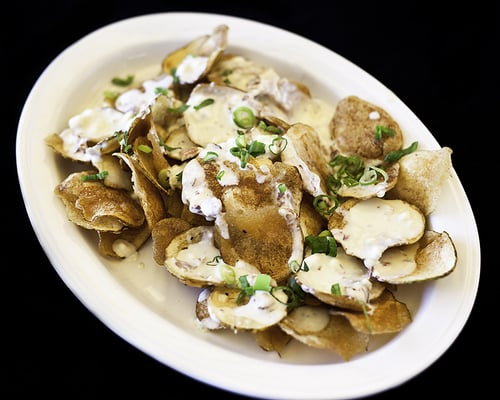sushi: (14, 10, 499, 399)
